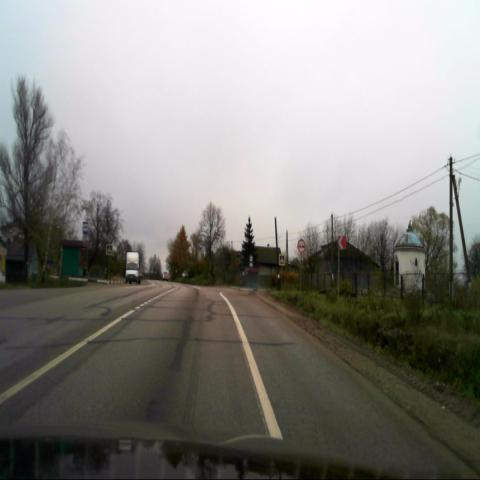3_20: (298, 238, 306, 253)
5_19_1: (279, 254, 285, 266)
